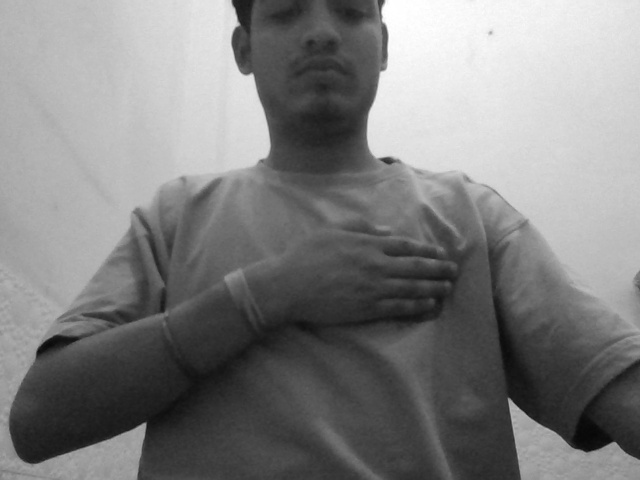Sorry: (273, 201, 507, 356)
